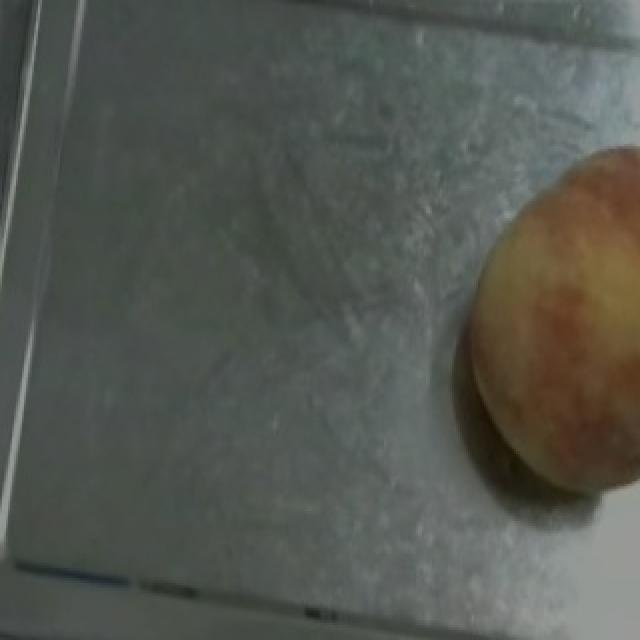Fruit: (436, 124, 640, 476)
